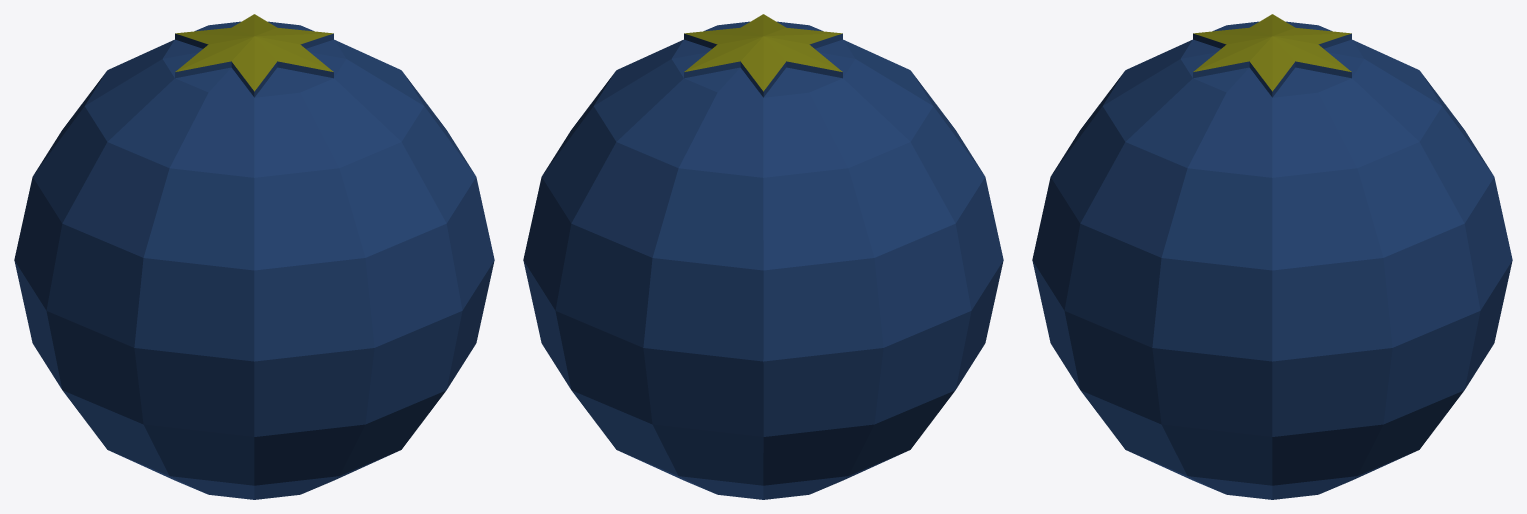
The model's file is blueberry.glb.
The picture shows the model from 3 angles, left to right: view 1: azimuth 30°, elevation 25°; view 2: azimuth 150°, elevation 25°; view 3: azimuth 270°, elevation 25°; orthographic projection.
Visible parts, largest first — view 1: blueberry; view 2: blueberry; view 3: blueberry.
Boxes of the visible parts, bbox=[...] form: blueberry: bbox=[14, 14, 494, 499]; blueberry: bbox=[523, 14, 1003, 499]; blueberry: bbox=[1032, 14, 1512, 499].
Size of the model in its own units: 0.5658 by 0.5737 by 0.5658.
1 material, 1 textured.
